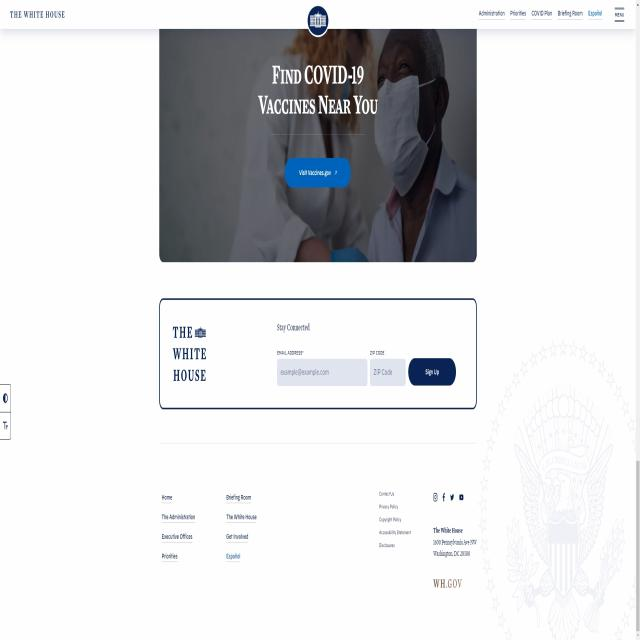menu-bar: (476, 4, 627, 23)
